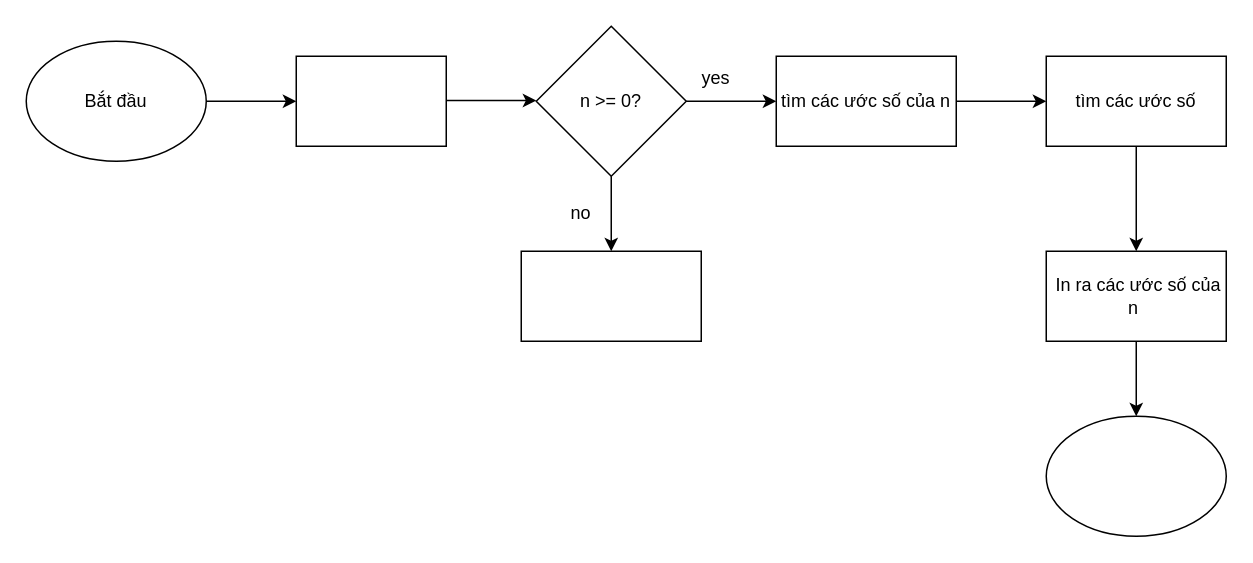
Image size: 1253x563. Some labels were removed from this diagram. Each missing label, with the centre of its shape:
in" vui lòng nhập mật số nguyên dương" và kết thúc: point 610,295
Kết thúc: point 1135,475
nhập số nguyên dương n: point 370,100
